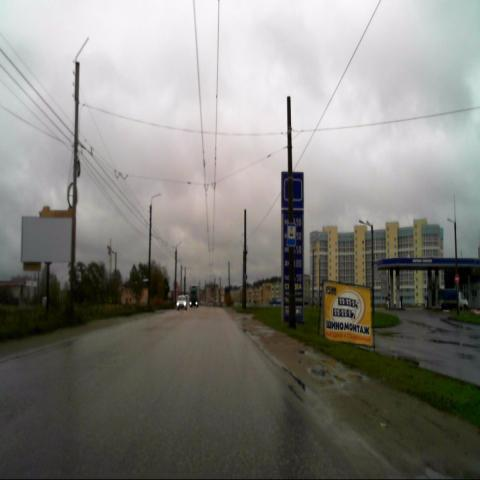7_5: (286, 222, 296, 248)
